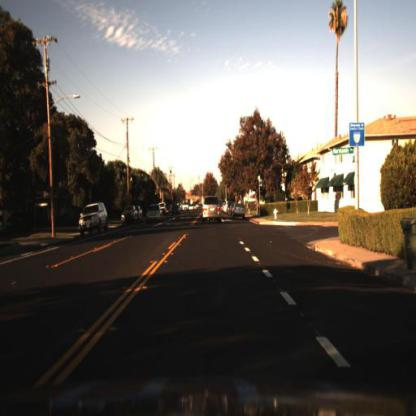car: (76, 201, 112, 241), (79, 199, 108, 239), (198, 190, 225, 230), (145, 202, 165, 227), (118, 206, 139, 227), (232, 202, 247, 224), (161, 203, 169, 221)
